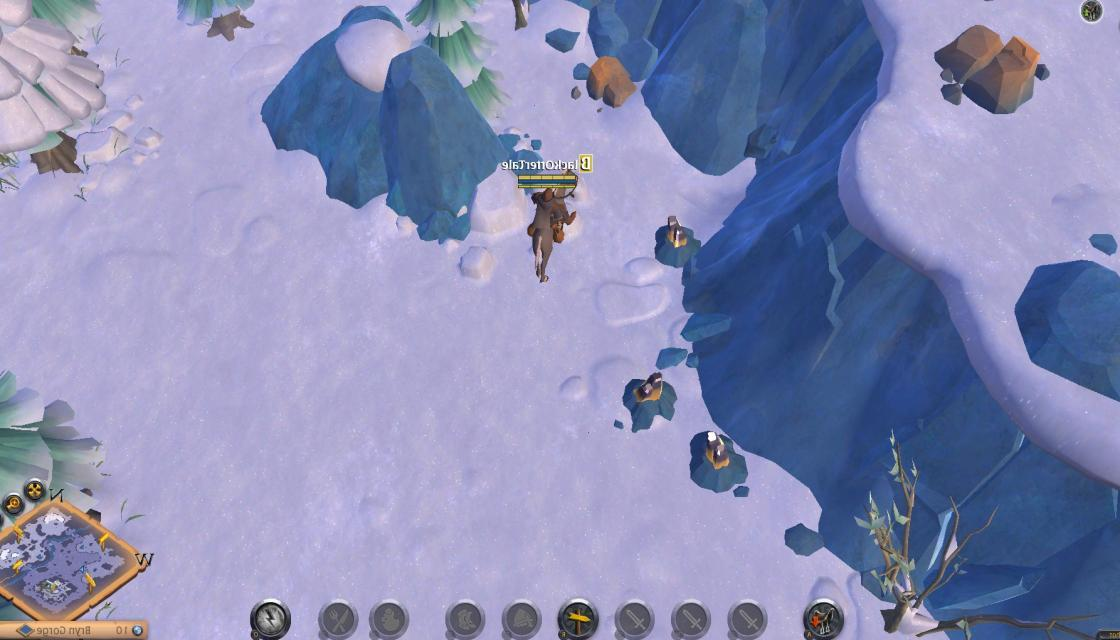copperore: (686, 428, 750, 492), (618, 368, 680, 434), (650, 210, 704, 268)
limestone: (931, 19, 1047, 116), (582, 49, 642, 114)
